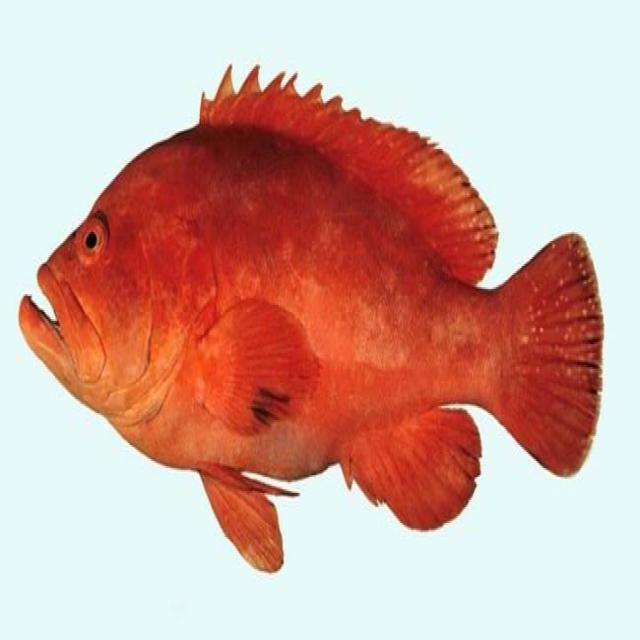ikan: (18, 61, 604, 574)
